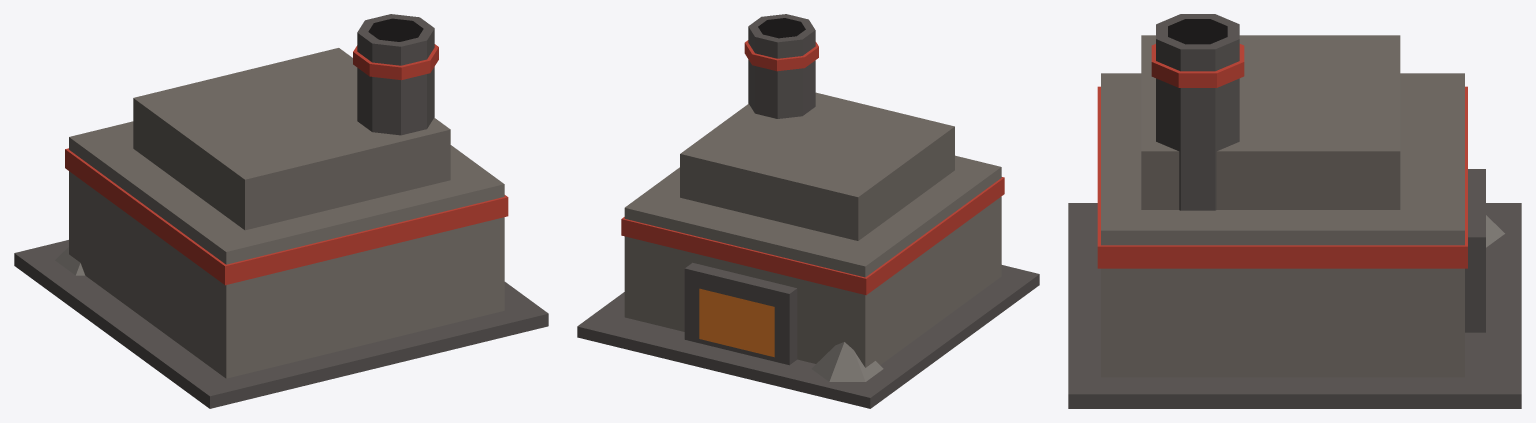
The model's file is smelter.obj.
3 renders of one model, left to right at view 1: azimuth 30°, elevation 25°; view 2: azimuth 150°, elevation 25°; view 3: azimuth 270°, elevation 25°, orthographic. The views are drawn at different scales.
Size of the model in its own units: 2.8 by 2.2 by 2.8.
